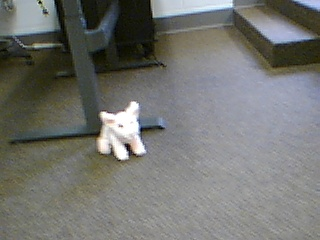piggy: (96, 100, 148, 161)
